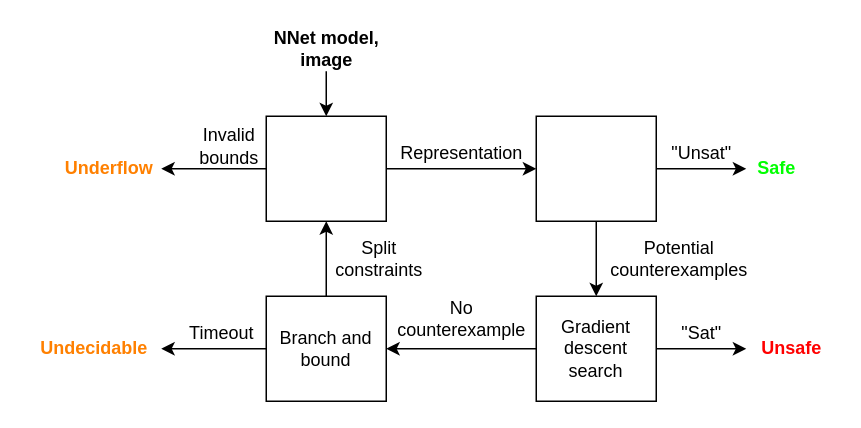
Some shapes in this 861 by 428 pixel diagram are drawn without their labels. The centre of each missing label's shape, as x and y in pixels:
ESIP: point (325, 168)
LP-solver: point (595, 168)
